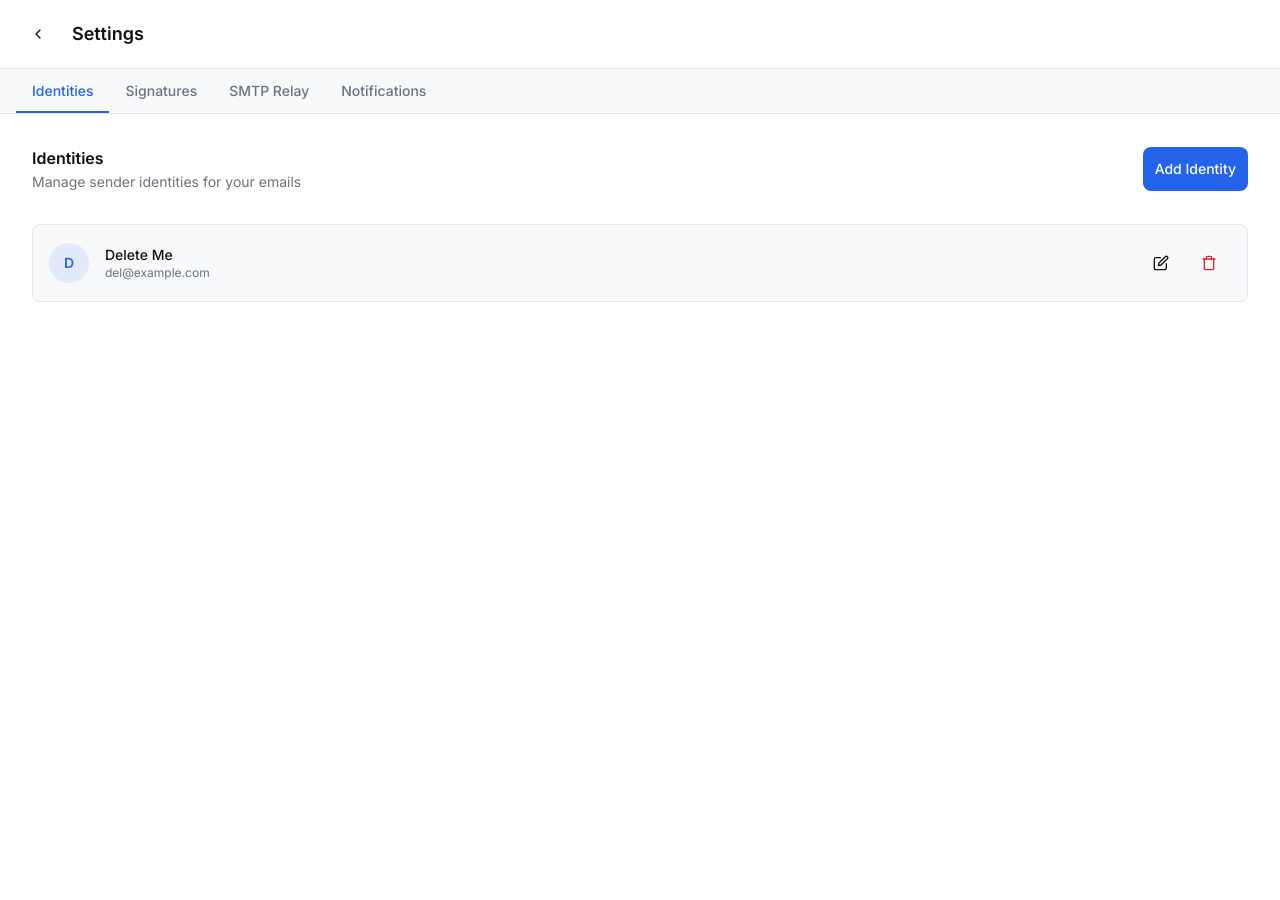
Test case: Settings › identities tab › delete button opens confirmation dialog
This screenshot has width=1280, height=900.
Expected: the text "Delete Me" is shown, [105,245,173,265]
Step 1. Click the button named "Delete Delete Me" → (1209, 263), box [1187,241,1231,285]
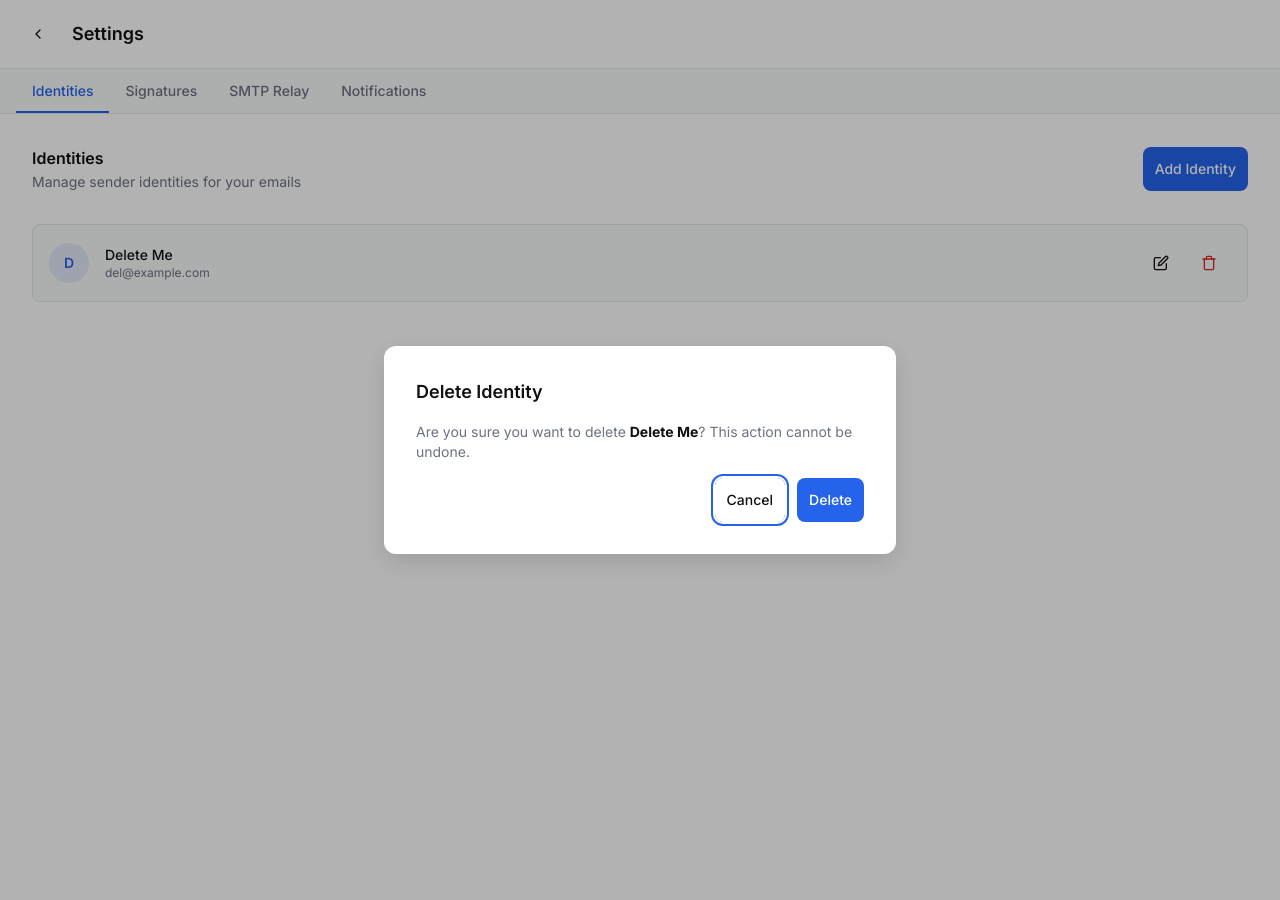
Expected: the heading "Delete Identity" is shown, [416,381,543,402]
Expected: the text "Are you sure you want to delete" is shown, [416,423,630,440]
